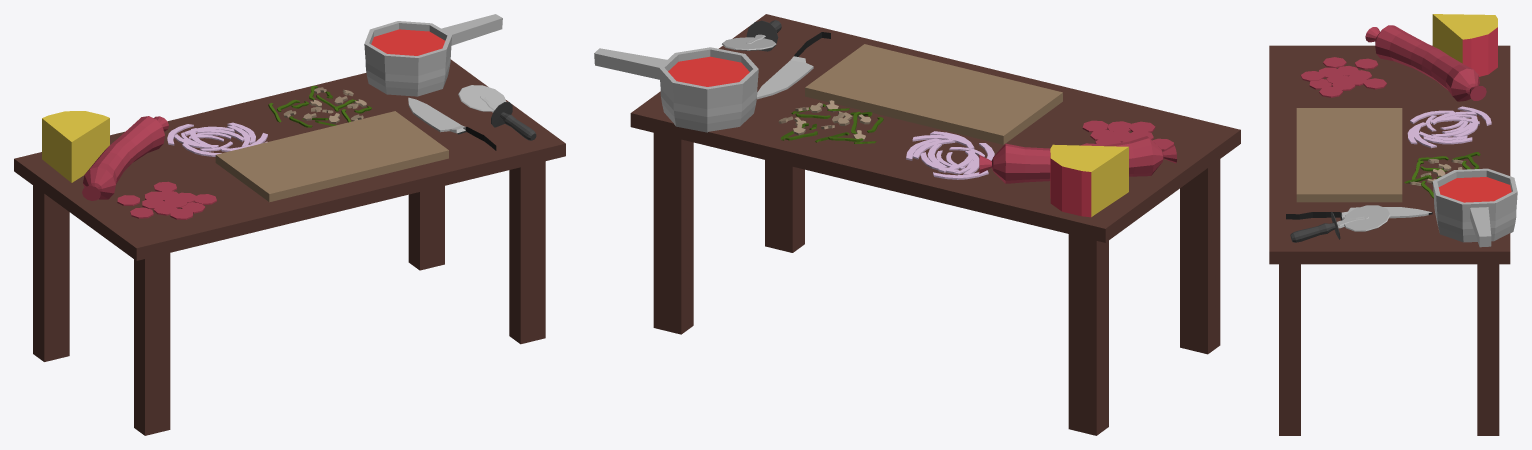
The model's file is IngredientStation.fbx.
3 renders of one model, left to right at view 1: azimuth 30°, elevation 25°; view 2: azimuth 150°, elevation 25°; view 3: azimuth 270°, elevation 25°, orthographic. The views are drawn at different scales.
Parts seen in each view (by area): view 1: RestaurantTable.003, Cube, Saucepan, Cheese, Sausage, PepperoniCut, Onions, PizzaCutter, VeggiesCut.004, Knife; view 2: RestaurantTable.003, Cube, Saucepan, Cheese, Sausage, Onions, VeggiesCut.004, PepperoniCut, Knife, PizzaCutter; view 3: RestaurantTable.003, Cube, Saucepan, Sausage, Cheese, PepperoniCut, Onions, PizzaCutter, VeggiesCut.004, Knife.
Part boxes in pixels (x1=…): RestaurantTable.003: x1=14, y1=59, x2=565, y2=435; Cube: x1=215, y1=111, x2=448, y2=202; Saucepan: x1=364, y1=14, x2=502, y2=96; Cheese: x1=42, y1=111, x2=109, y2=182; Sausage: x1=82, y1=116, x2=168, y2=200; PepperoniCut: x1=117, y1=181, x2=216, y2=219; Onions: x1=167, y1=122, x2=267, y2=156; PizzaCutter: x1=458, y1=85, x2=536, y2=140; VeggiesCut.004: x1=268, y1=86, x2=371, y2=127; Knife: x1=408, y1=97, x2=496, y2=150; RestaurantTable.003: x1=630, y1=14, x2=1240, y2=435; Cube: x1=805, y1=44, x2=1062, y2=144; Saucepan: x1=594, y1=47, x2=758, y2=132; Cheese: x1=1050, y1=144, x2=1128, y2=217; Sausage: x1=979, y1=136, x2=1176, y2=183; Onions: x1=906, y1=131, x2=994, y2=179; VeggiesCut.004: x1=778, y1=100, x2=883, y2=143; PepperoniCut: x1=1080, y1=120, x2=1173, y2=150; Knife: x1=757, y1=32, x2=830, y2=99; PizzaCutter: x1=722, y1=20, x2=781, y2=51; RestaurantTable.003: x1=1269, y1=45, x2=1510, y2=435; Cube: x1=1296, y1=108, x2=1402, y2=202; Saucepan: x1=1432, y1=168, x2=1517, y2=247; Sausage: x1=1365, y1=25, x2=1486, y2=101; Cheese: x1=1432, y1=14, x2=1497, y2=76; PepperoniCut: x1=1300, y1=57, x2=1386, y2=97; Onions: x1=1407, y1=106, x2=1491, y2=148; PizzaCutter: x1=1290, y1=205, x2=1390, y2=242; VeggiesCut.004: x1=1404, y1=152, x2=1480, y2=198; Knife: x1=1286, y1=207, x2=1432, y2=220.
Bounding box in the file's own units: 527 × 251 × 243.
